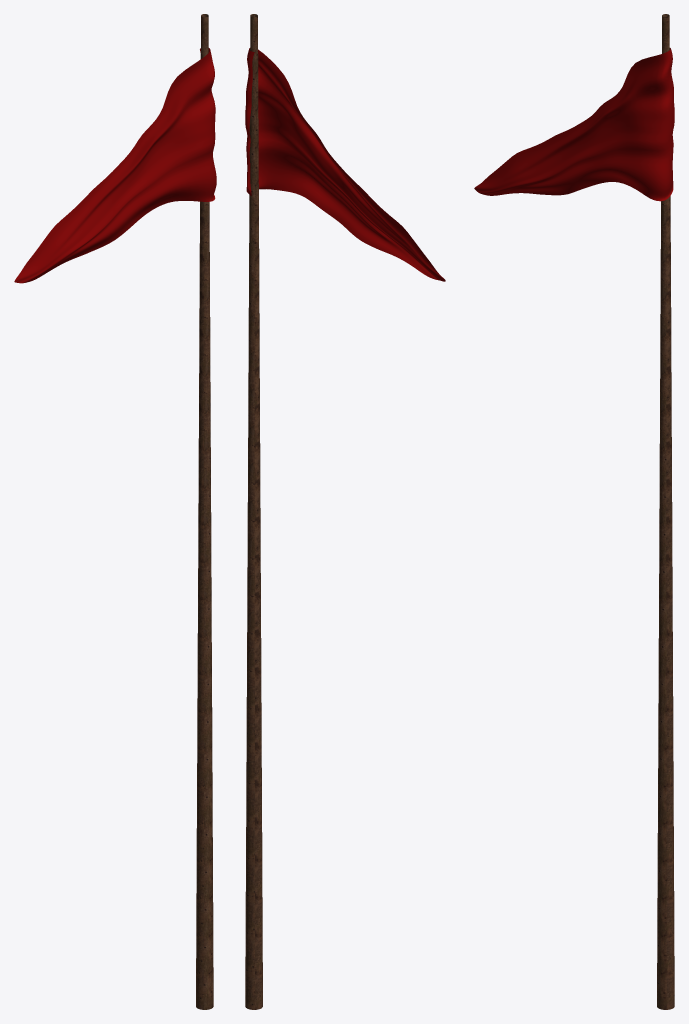
The model's file is Bandera.glb.
3 renders of one model, left to right at view 1: azimuth 30°, elevation 25°; view 2: azimuth 150°, elevation 25°; view 3: azimuth 330°, elevation 25°, orthographic.
Parts seen in each view (by area): view 1: flag.002, poll.001; view 2: poll.001, flag.002; view 3: flag.002, poll.001.
Boxes of the visible parts, x1,y1,x2,y2 form: flag.002: (14,48,216,283); poll.001: (196,14,213,1009); poll.001: (245,14,262,1009); flag.002: (245,48,445,281); flag.002: (474,48,674,201); poll.001: (657,14,674,1009).
Bounding box in the file's own units: 0.3336 × 1.59 × 0.048.
Materials: 2 (1 with a texture image).
